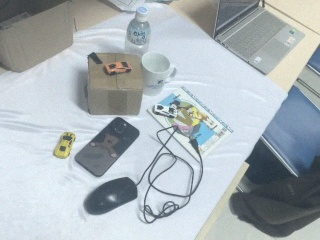book: (147, 85, 234, 157)
bottle: (122, 5, 153, 58)
box: (1, 1, 75, 74), (85, 51, 145, 116)
cup: (140, 52, 172, 99)
mouse: (83, 177, 138, 216)
phone: (74, 115, 141, 178)
toy_car: (53, 131, 76, 159), (103, 61, 133, 75), (154, 102, 178, 118)
